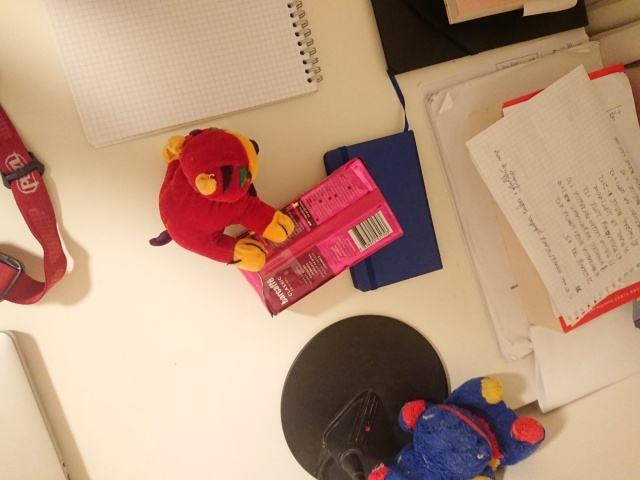Barcaffe Classic Original 225g: (223, 153, 406, 320)
